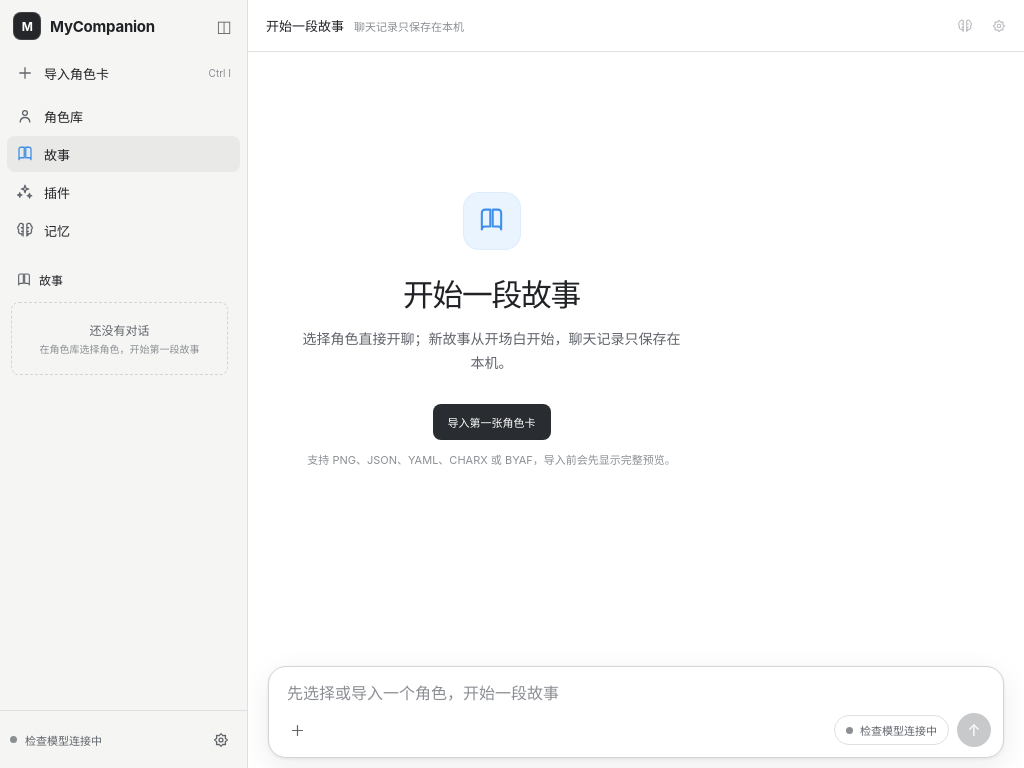
it: App › shows the beginner onboarding path
// 默认落地是对话页；新手引导位于角色库视图。
Click the button "角色库" at coordinates (124, 116), box [7,98,240,134]
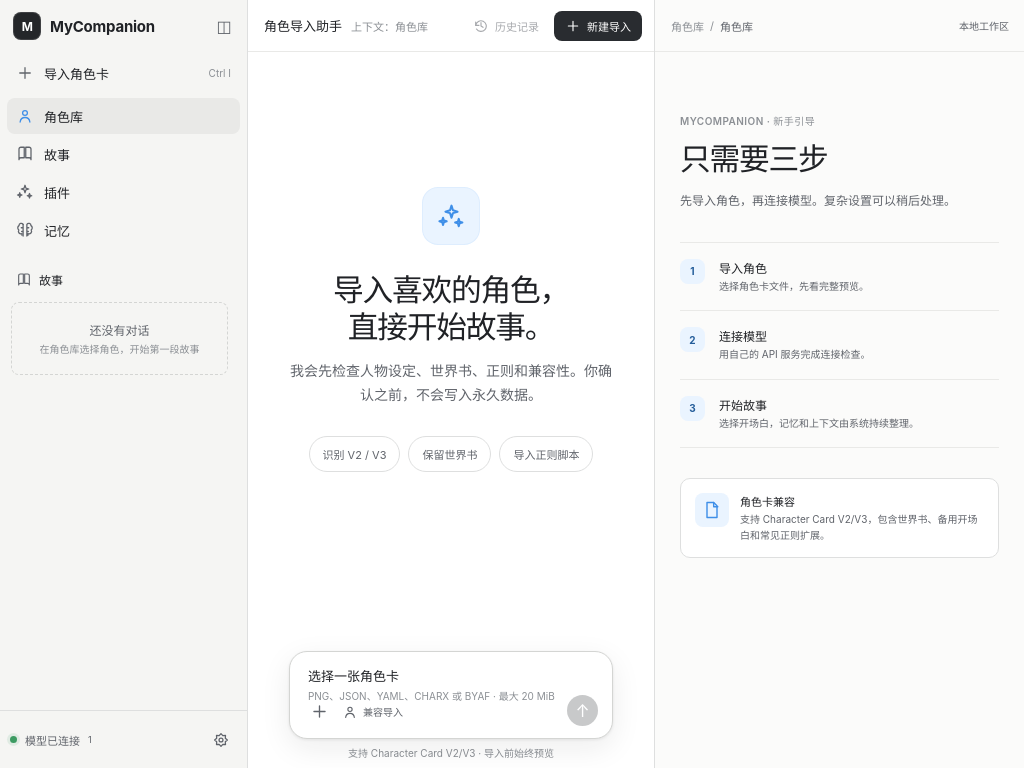
Check: the heading "导入喜欢的角色，直接开始故事。" is shown, box [333,271,569,344]
Check: the heading "只需要三步" is shown, box [680,140,828,177]
Check: the text "模型已连接" is shown, box [25,732,80,748]
